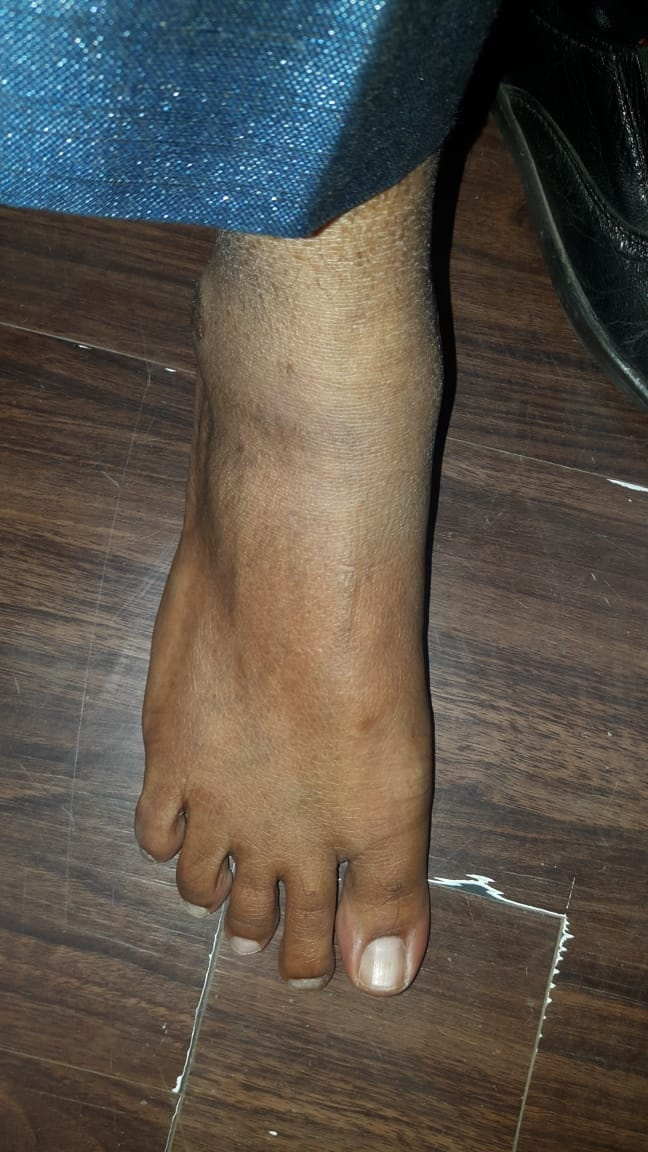feet: (74, 165, 476, 1016)
